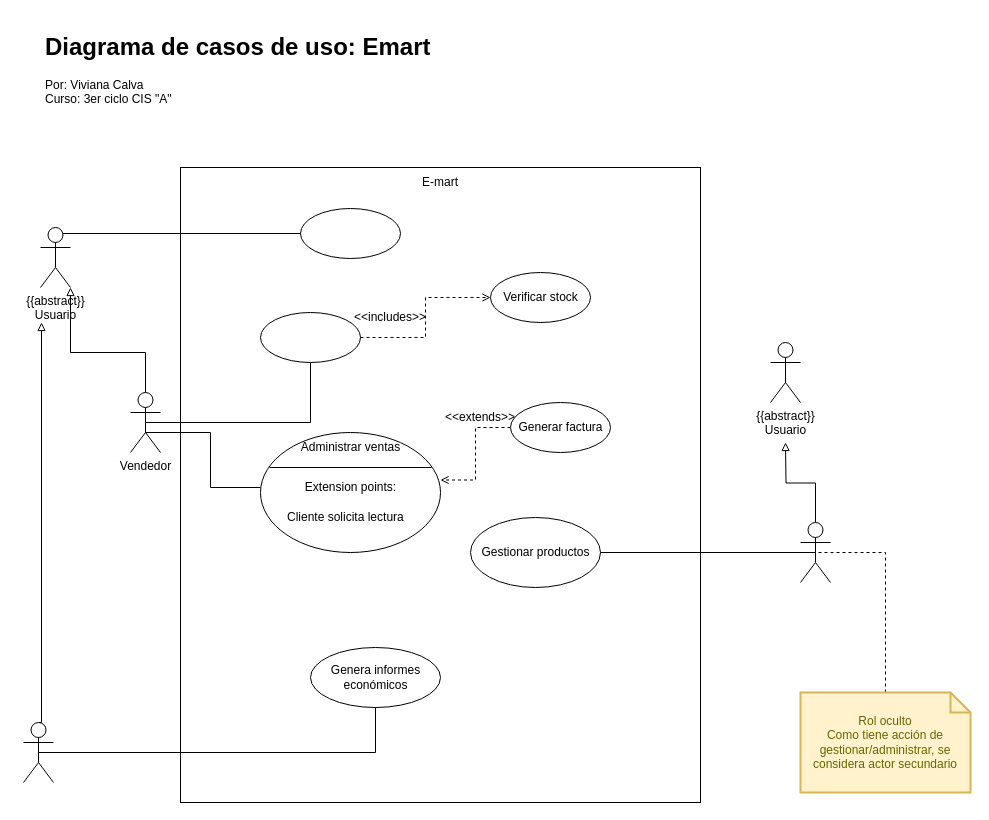
This 989x820 diagram has some shape labels left out. The shapes that lost their labels are listed below. From the top down, each one's box as (x1, y1, x2, y2) in pixels, then its label:
(300, 208, 400, 258): Iniciar sesión
(260, 312, 360, 362): Vender productos
(800, 522, 830, 582): Bodegero
(22, 722, 54, 782): Gerente
